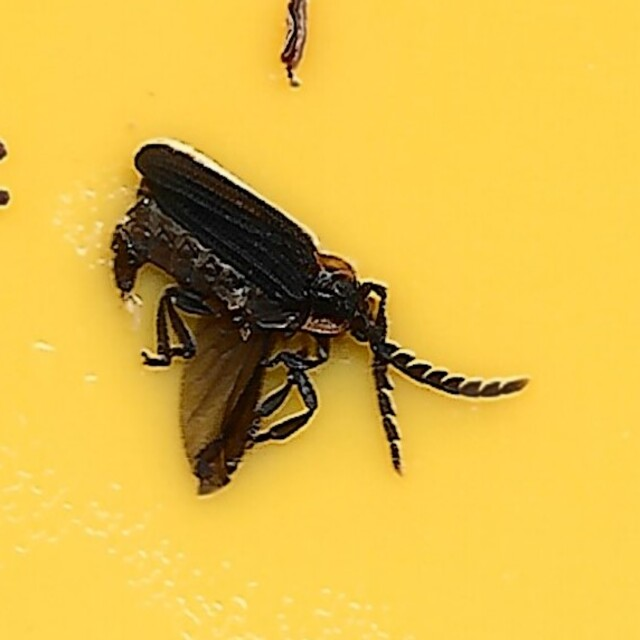Coleoptera: (112, 141, 528, 499)
